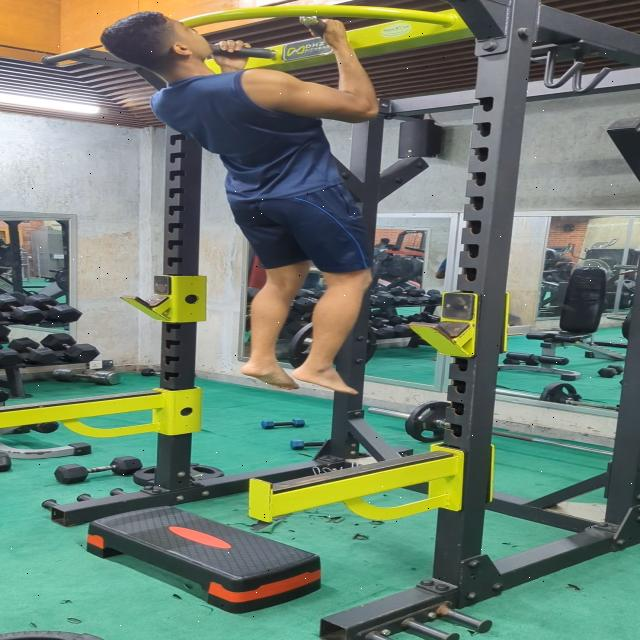Normal_PullUps: (98, 9, 380, 395)
